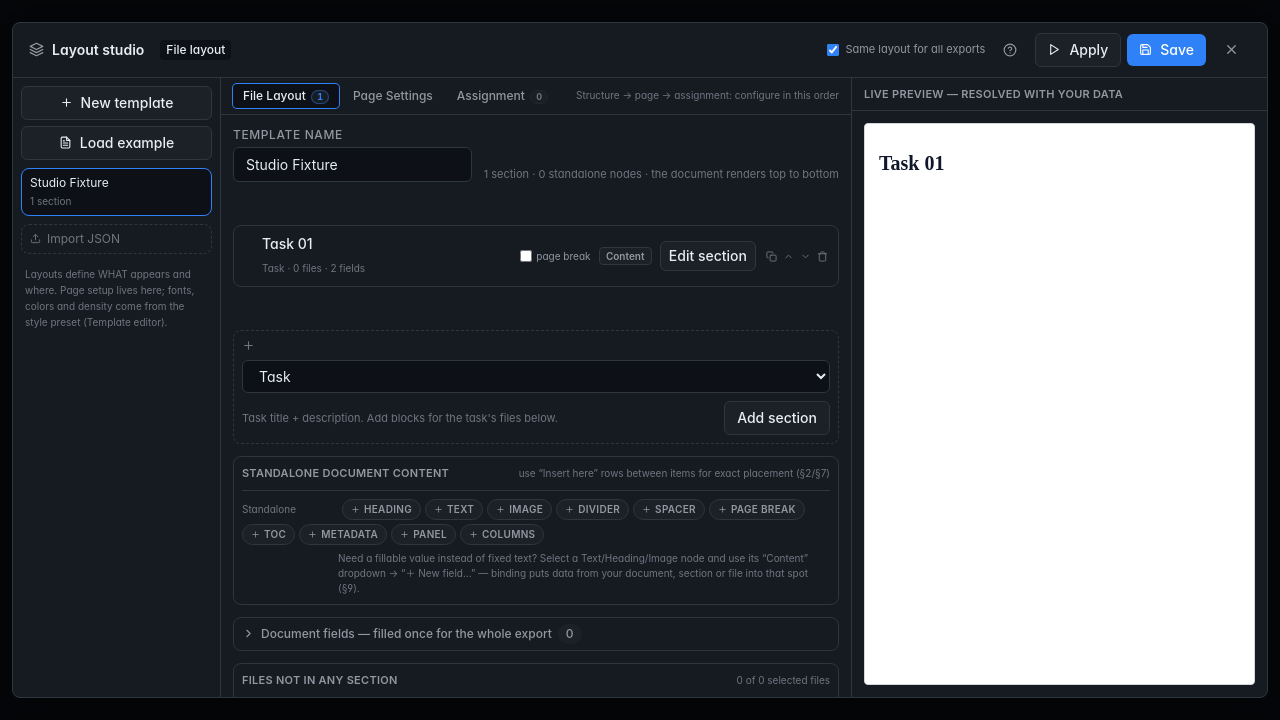
Scenario: Page & Layout dependency gates (§4) › hides the TOC alignment and numbering controls while the TOC is off
This screenshot has width=1280, height=720.
Click the tab "Page Settings" at (393, 96), box [343,84,443,108]
(page scrolled)
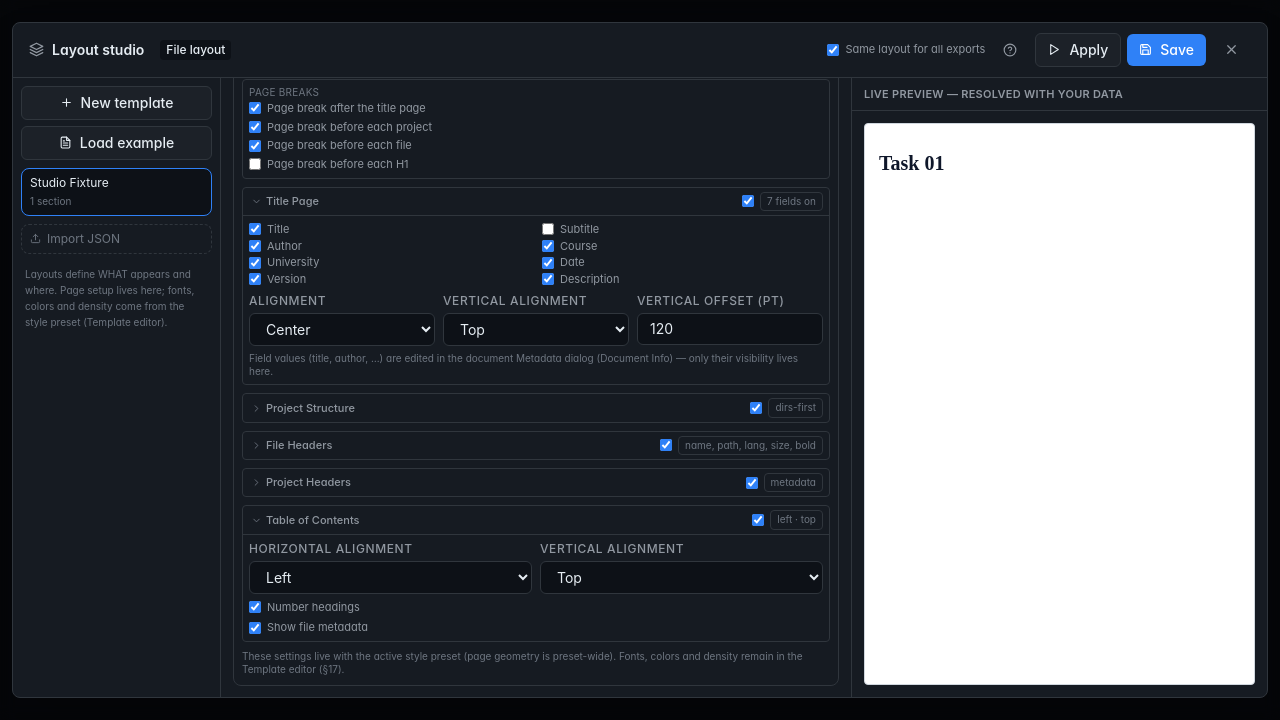
Click the checkbox named "Table of contents" at (758, 520), box [752,514,764,526]
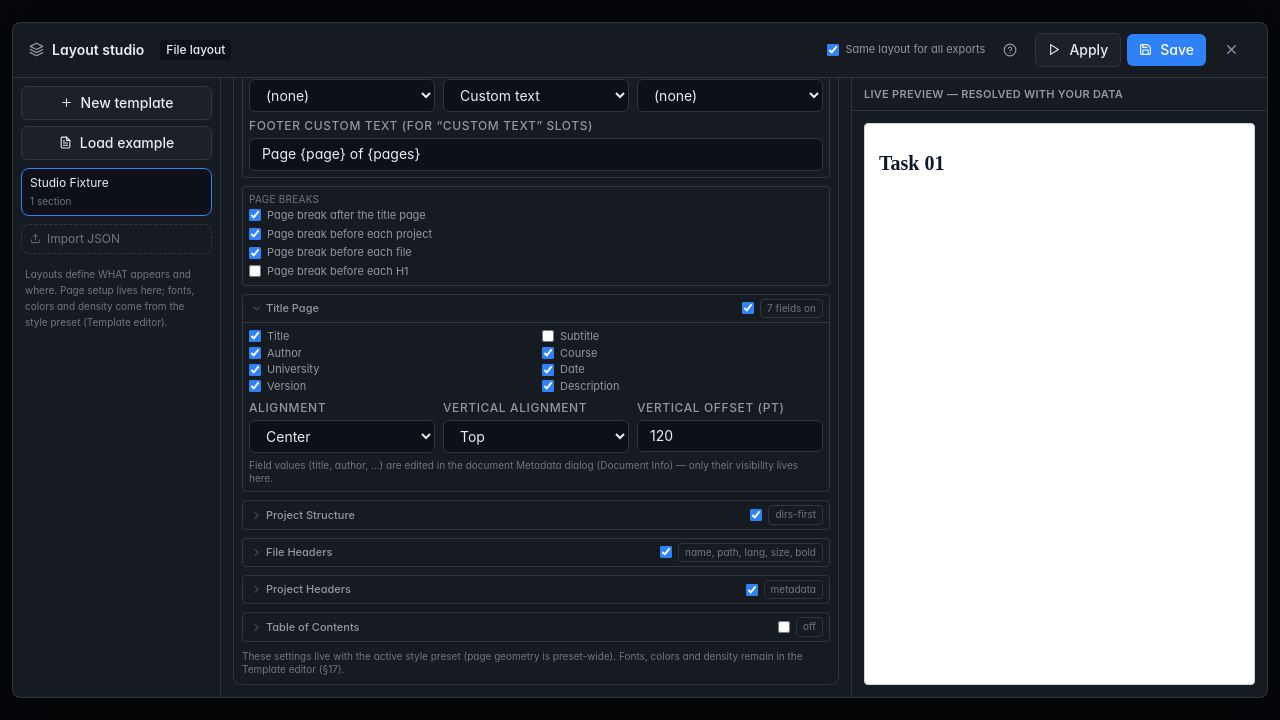
expect the label labelled "Number headings" is gone: met
expect the label labelled "Show file metadata" is gone: met
Click the checkbox named "Table of contents" at (784, 627), box [778,621,790,633]
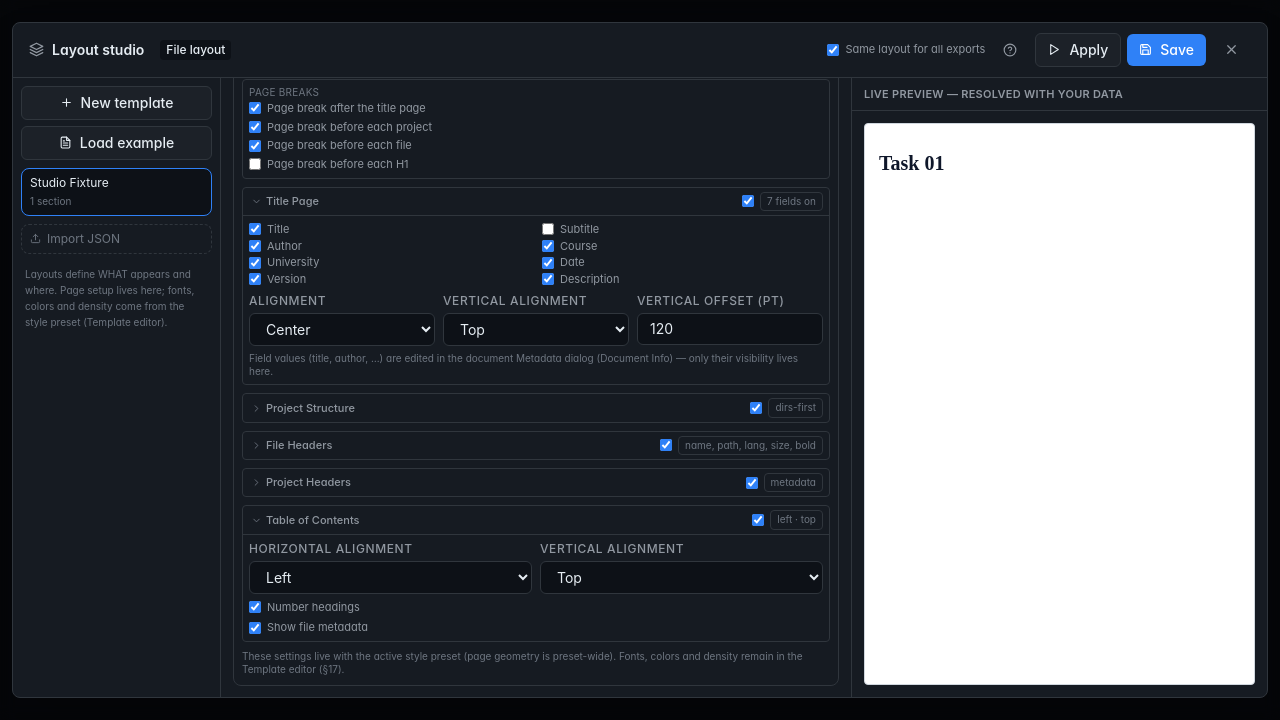
expect the dropdown named "TOC horizontal alignment" is shown: met, box [249,561,532,594]
expect the dropdown named "TOC vertical alignment" is shown: met, box [540,561,823,594]
expect the checkbox labelled "Number headings" is shown: met, box [249,601,261,613]
